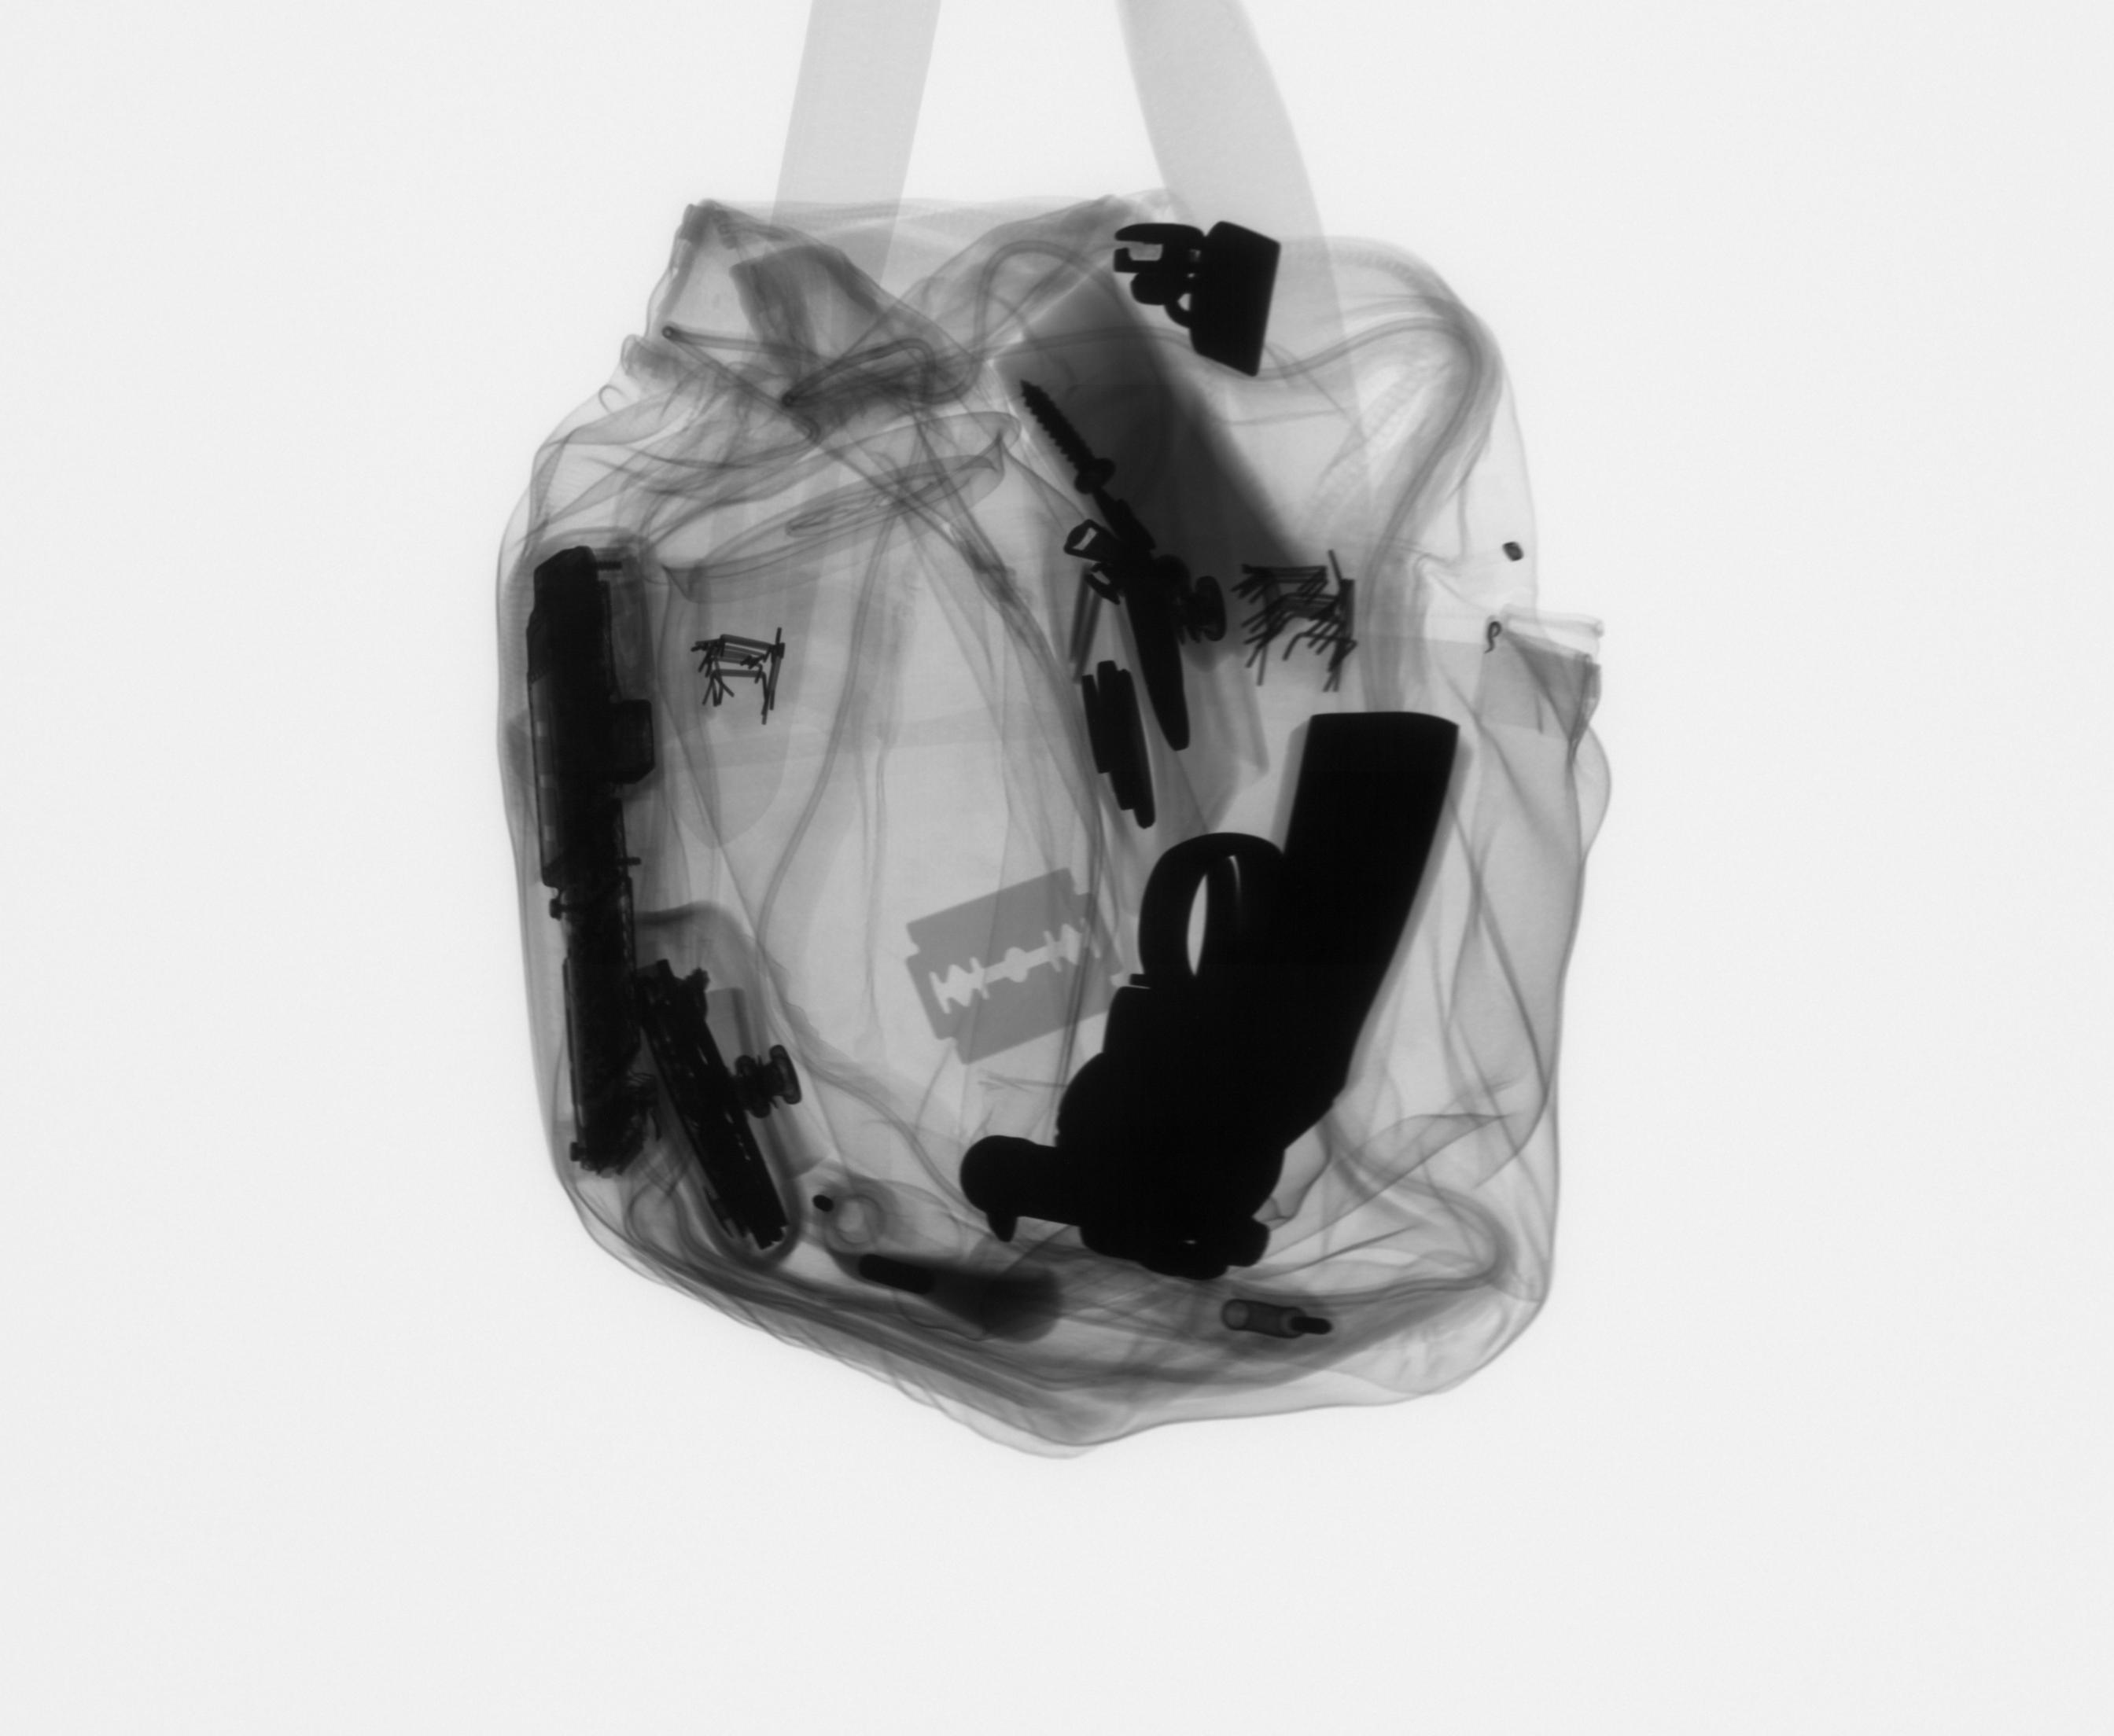Handgun: (953, 702, 1484, 1297)
RazorBlade: (897, 858, 1131, 1080)
